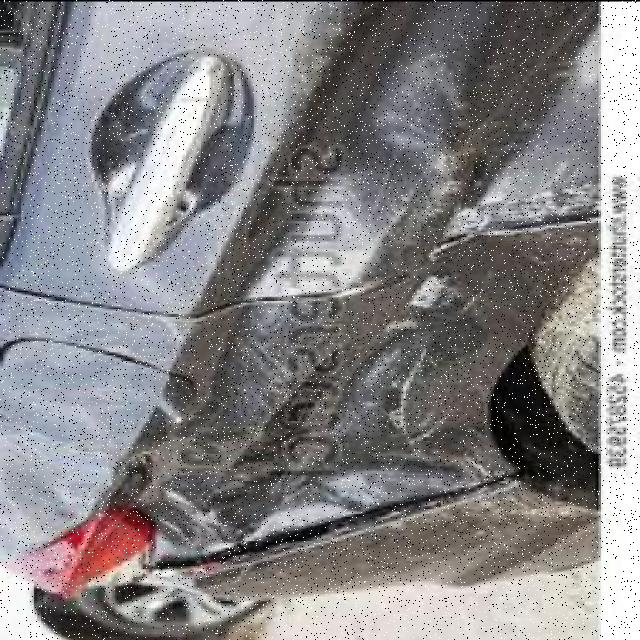damage: (5, 1, 599, 582)
